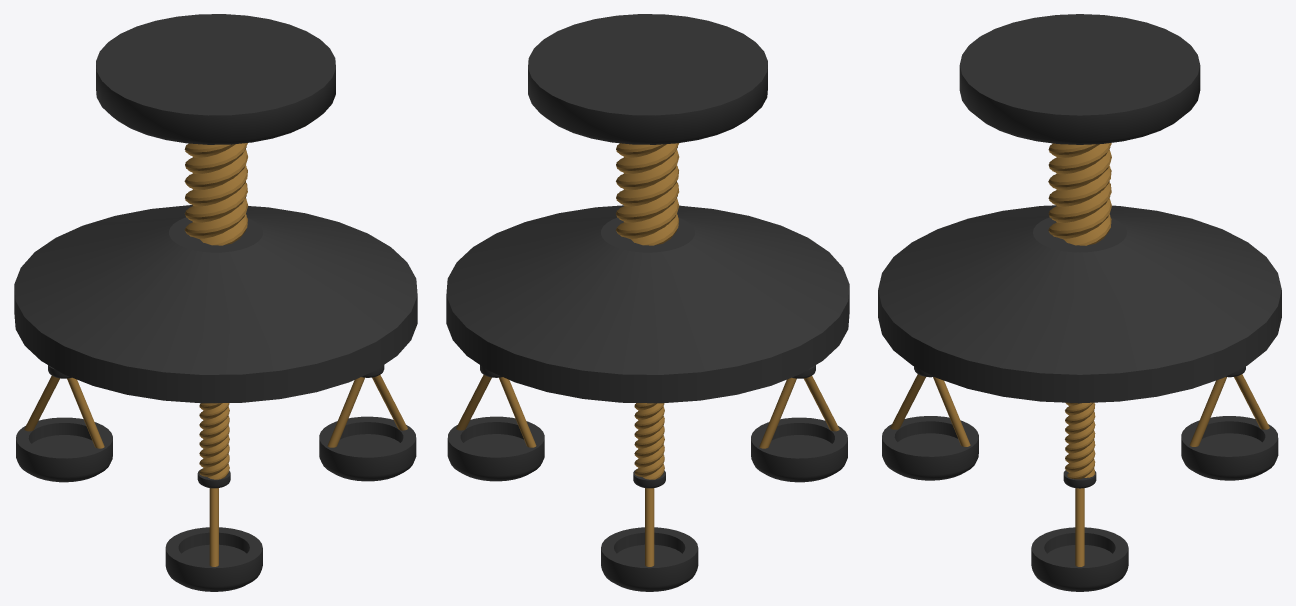
File: Avize.fbx
The picture shows the model from 3 angles, left to right: view 1: azimuth 30°, elevation 25°; view 2: azimuth 150°, elevation 25°; view 3: azimuth 270°, elevation 25°; orthographic projection.
Parts seen in each view (by area): view 1: Cylinder.001; view 2: Cylinder.001; view 3: Cylinder.001.
Part boxes in pixels (x1=…): Cylinder.001: x1=14, y1=14, x2=417, y2=591; Cylinder.001: x1=446, y1=14, x2=849, y2=591; Cylinder.001: x1=878, y1=14, x2=1281, y2=591.
Bounding box in the file's own units: 79.63 × 91.45 × 75.57.
